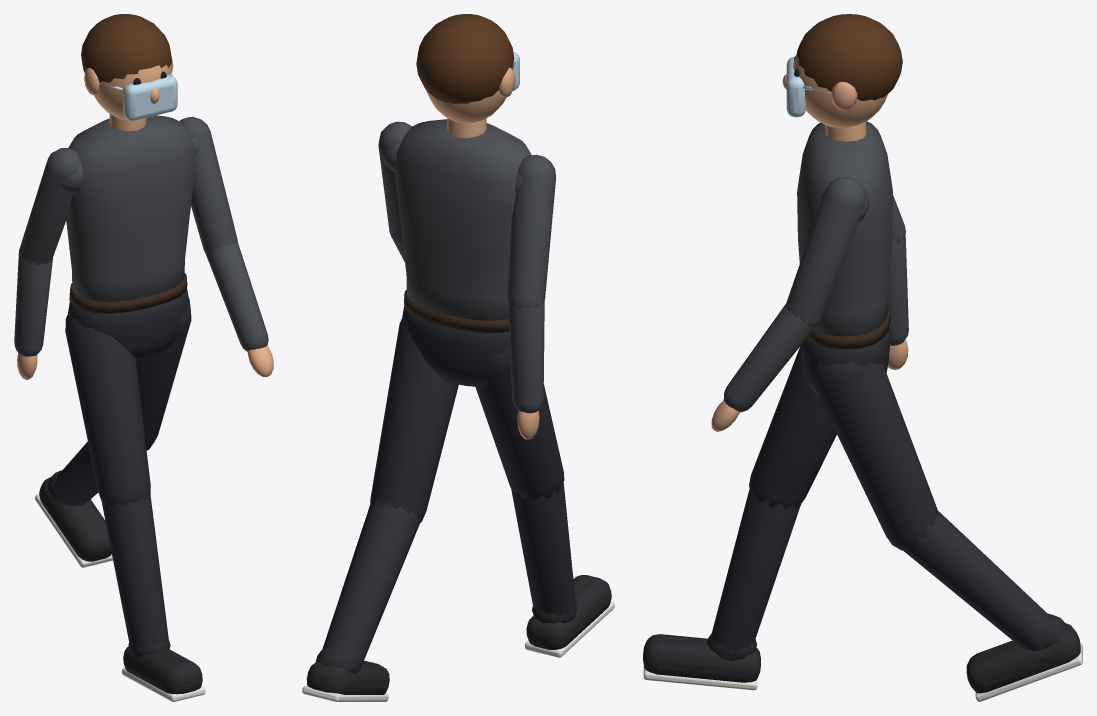
Rendered from gloom_coat.fbx.
3 renders of one model, left to right at view 1: azimuth 30°, elevation 25°; view 2: azimuth 150°, elevation 25°; view 3: azimuth 270°, elevation 25°, orthographic. The views are drawn at different scales.
Visible parts, largest first — view 1: gloom_coat; view 2: gloom_coat; view 3: gloom_coat.
Part boxes in pixels (x1,y1,x2,y2): gloom_coat: [14, 14, 273, 701]; gloom_coat: [302, 14, 614, 701]; gloom_coat: [643, 14, 1082, 701].
Size of the model in its own units: 0.5306 by 1.72 by 1.01.
